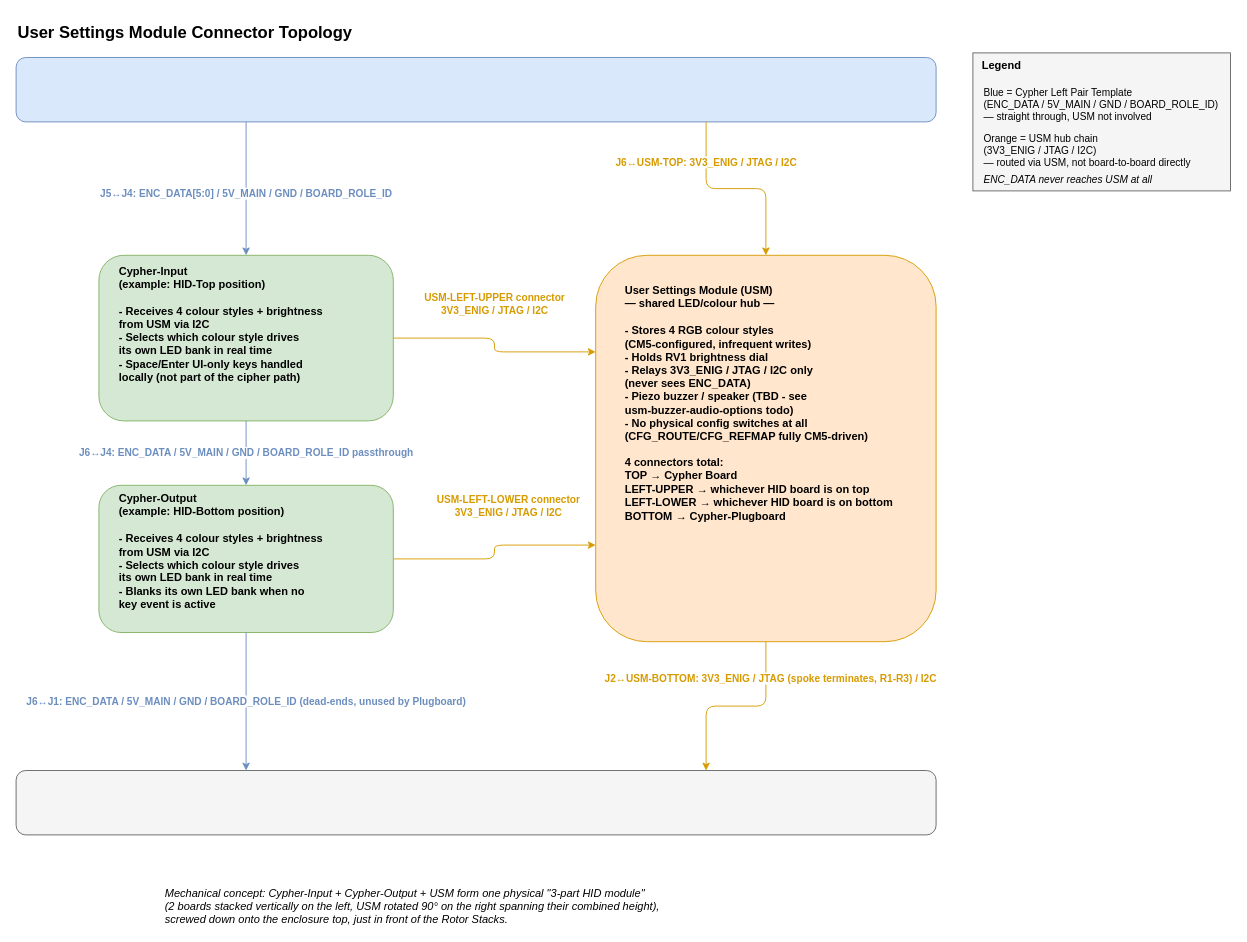
Image size: 1247x942. Some labels were removed from this diagram. The shapes that lost their labels are listed below. From the top down, each one's centre as x and y in pixels, then its label:
At pixel 475 89: "Cypher Board (J5 = left, J6 = right, per Cypher/Board_Layout.md §4)".
At pixel 475 802: "Cypher-Plugboard (J1 = left, J2 = right) JTAG spoke terminator (R1-R3)".
